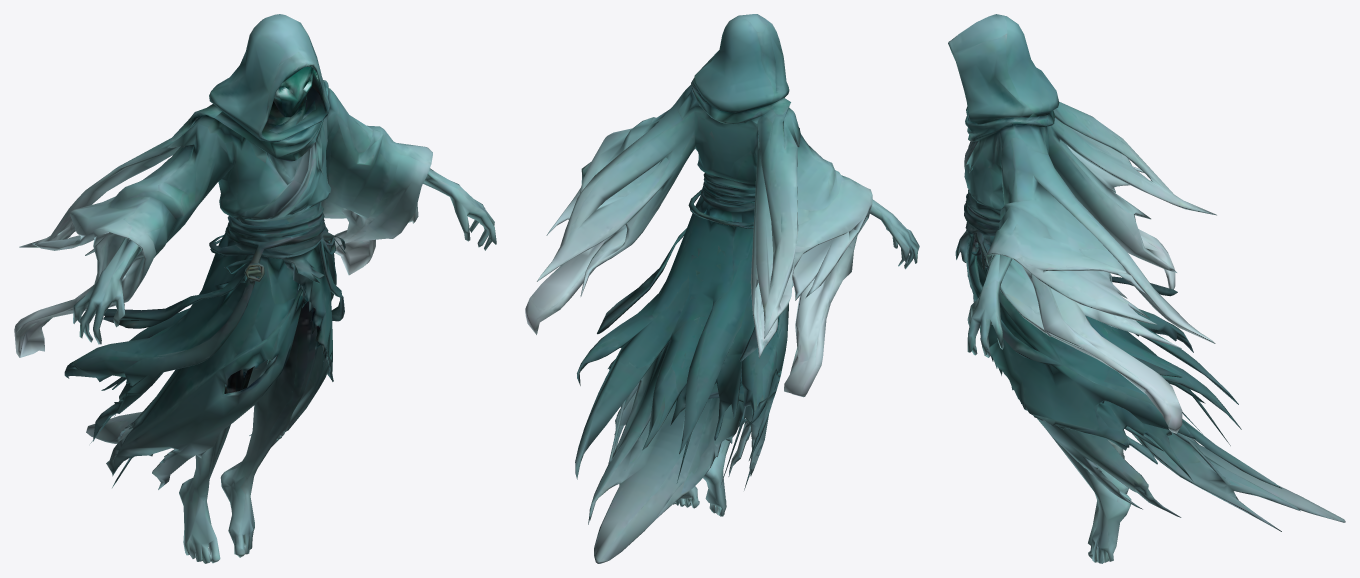
File: ghost_lq.glb
3 renders of one model, left to right at view 1: azimuth 30°, elevation 25°; view 2: azimuth 150°, elevation 25°; view 3: azimuth 270°, elevation 25°, orthographic. The views are drawn at different scales.
Parts seen in each view (by area): view 1: node_0; view 2: node_0; view 3: node_0.
Part boxes in pixels (x1=…): node_0: x1=14, y1=14, x2=496, y2=563; node_0: x1=525, y1=14, x2=919, y2=563; node_0: x1=948, y1=14, x2=1345, y2=563.
Size of the model in its own units: 0.7835 by 1.06 by 0.7104.
1 material, 1 textured.
